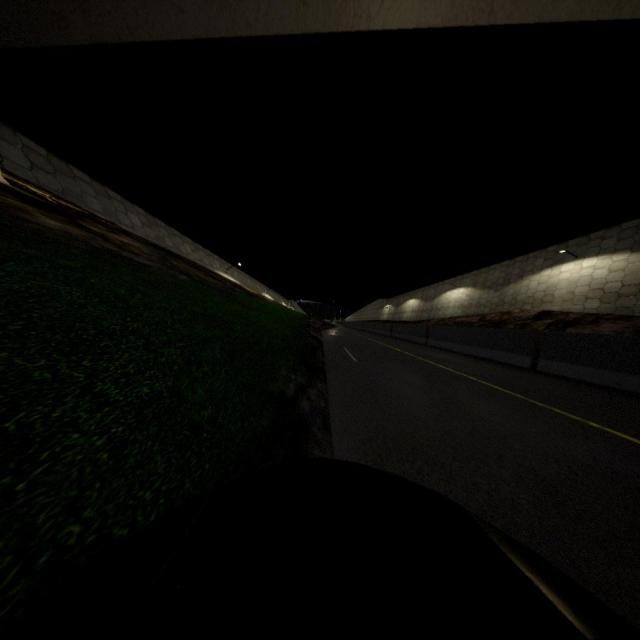Vehicle: (0, 457, 640, 640)
